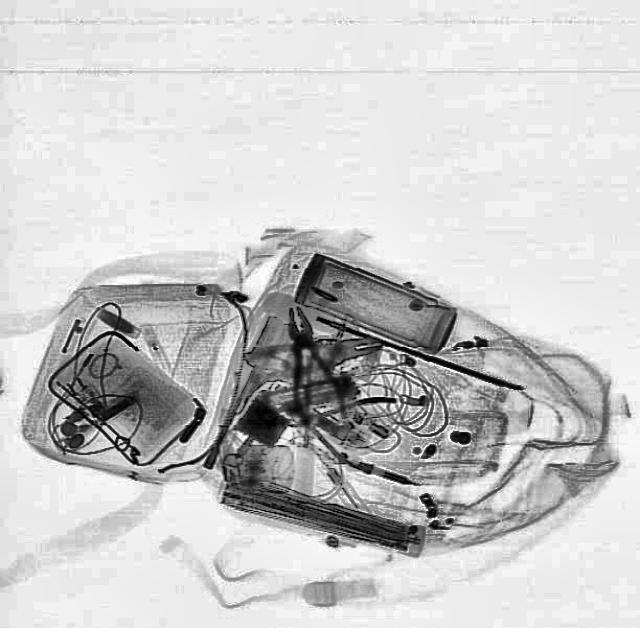Pliers: (276, 374, 426, 484), (268, 300, 354, 447), (238, 318, 384, 389)
